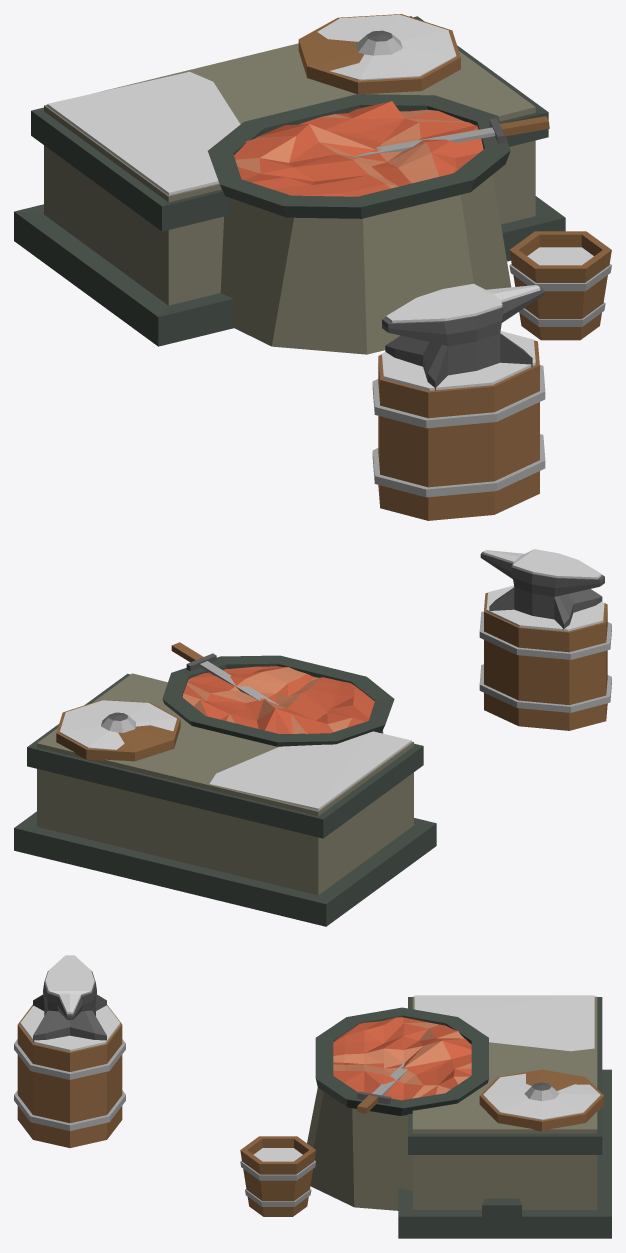
The model's file is Smithy_1_lvl_snow_mat.fbx.
The picture shows the model from 3 angles, top to bottom: view 1: azimuth 30°, elevation 25°; view 2: azimuth 150°, elevation 25°; view 3: azimuth 270°, elevation 25°; orthographic projection. The views are drawn at different scales.
Visible parts, largest first — view 1: Smithy_1_lvl_snow_mat; view 2: Smithy_1_lvl_snow_mat; view 3: Smithy_1_lvl_snow_mat.
Part boxes in pixels (box(x1,y1,x2,y2)): Smithy_1_lvl_snow_mat: box(14, 14, 611, 520); Smithy_1_lvl_snow_mat: box(14, 549, 611, 926); Smithy_1_lvl_snow_mat: box(14, 955, 611, 1238).
Size of the model in its own units: 1.44 by 0.6281 by 2.44.
